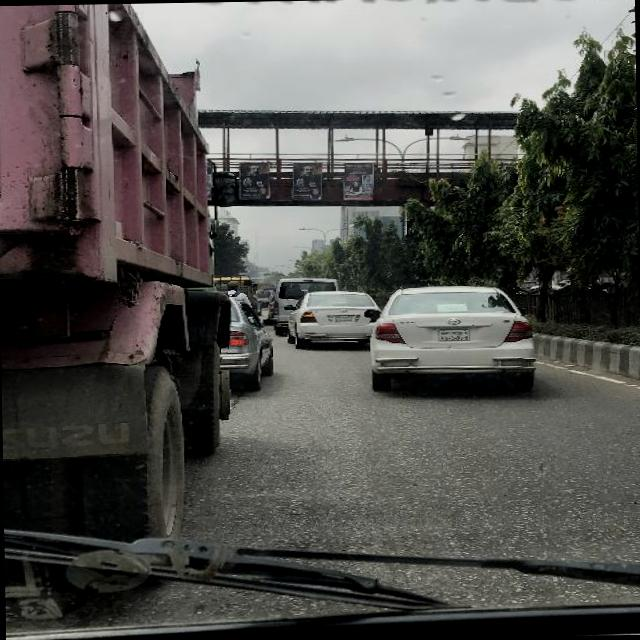car: (365, 283, 541, 397), (284, 290, 381, 349)
truck: (266, 276, 302, 331)
